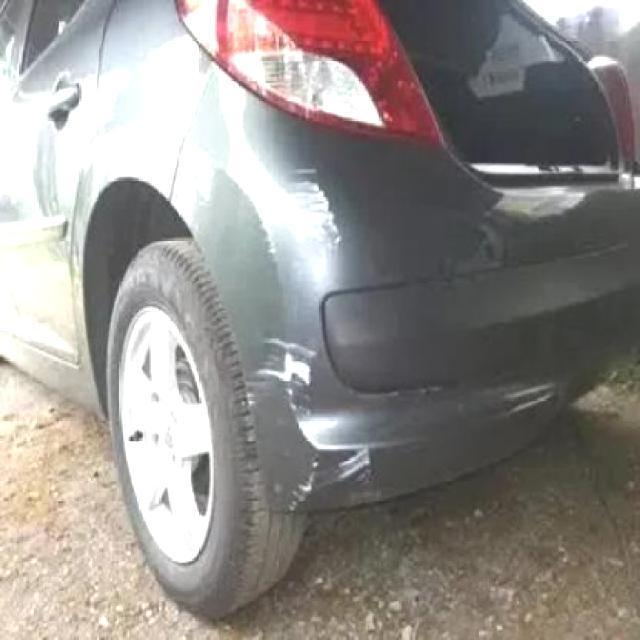minor: (278, 171, 343, 257), (251, 338, 318, 411), (300, 446, 375, 511)
